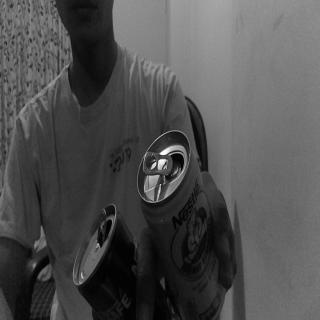alumunium_can: (136, 132, 227, 304), (74, 206, 143, 310)
